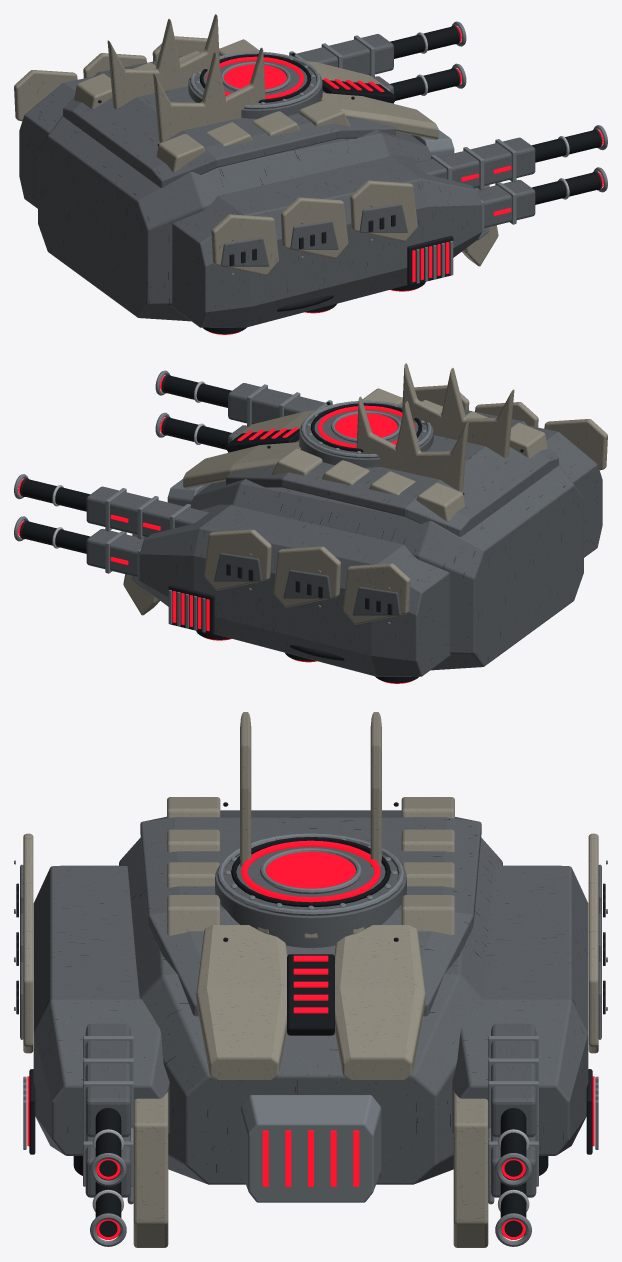
File: boss.glb
3 renders of one model, top to bottom at view 1: azimuth 30°, elevation 25°; view 2: azimuth 150°, elevation 25°; view 3: azimuth 270°, elevation 25°, orthographic. The views are drawn at different scales.
Visible parts, largest first — view 1: APEX_Dreadnought_V2_CONCEPT2_armor.001, APEX_Dreadnought_V2_CONCEPT2_ceramic.001, APEX_Dreadnought_V2_CONCEPT2_dark.001, APEX_Dreadnought_V2_CONCEPT2_steel.001, APEX_Dreadnought_V2_CONCEPT2_red.001, APEX_Dreadnought_V2_CONCEPT2_rubber.001; view 2: APEX_Dreadnought_V2_CONCEPT2_armor.001, APEX_Dreadnought_V2_CONCEPT2_ceramic.001, APEX_Dreadnought_V2_CONCEPT2_dark.001, APEX_Dreadnought_V2_CONCEPT2_steel.001, APEX_Dreadnought_V2_CONCEPT2_red.001, APEX_Dreadnought_V2_CONCEPT2_rubber.001; view 3: APEX_Dreadnought_V2_CONCEPT2_armor.001, APEX_Dreadnought_V2_CONCEPT2_ceramic.001, APEX_Dreadnought_V2_CONCEPT2_steel.001, APEX_Dreadnought_V2_CONCEPT2_red.001, APEX_Dreadnought_V2_CONCEPT2_dark.001, APEX_Dreadnought_V2_CONCEPT2_rubber.001, APEX_Dreadnought_V2_CONCEPT2_edge.001.
Boxes of the visible parts, <box> form: APEX_Dreadnought_V2_CONCEPT2_armor.001: <box>19,34,535,327</box>; APEX_Dreadnought_V2_CONCEPT2_ceramic.001: <box>14,14,498,275</box>; APEX_Dreadnought_V2_CONCEPT2_dark.001: <box>98,26,599,334</box>; APEX_Dreadnought_V2_CONCEPT2_steel.001: <box>190,21,607,283</box>; APEX_Dreadnought_V2_CONCEPT2_red.001: <box>206,26,603,334</box>; APEX_Dreadnought_V2_CONCEPT2_rubber.001: <box>229,25,601,311</box>; APEX_Dreadnought_V2_CONCEPT2_armor.001: <box>86,383,602,676</box>; APEX_Dreadnought_V2_CONCEPT2_ceramic.001: <box>123,363,607,624</box>; APEX_Dreadnought_V2_CONCEPT2_dark.001: <box>22,375,523,683</box>; APEX_Dreadnought_V2_CONCEPT2_steel.001: <box>14,370,431,632</box>; APEX_Dreadnought_V2_CONCEPT2_red.001: <box>18,375,415,683</box>; APEX_Dreadnought_V2_CONCEPT2_rubber.001: <box>20,374,392,660</box>; APEX_Dreadnought_V2_CONCEPT2_armor.001: <box>20,810,601,1197</box>; APEX_Dreadnought_V2_CONCEPT2_ceramic.001: <box>23,712,598,1247</box>; APEX_Dreadnought_V2_CONCEPT2_steel.001: <box>14,833,607,1246</box>; APEX_Dreadnought_V2_CONCEPT2_red.001: <box>27,840,594,1239</box>; APEX_Dreadnought_V2_CONCEPT2_dark.001: <box>73,802,548,1217</box>; APEX_Dreadnought_V2_CONCEPT2_rubber.001: <box>16,883,605,1238</box>; APEX_Dreadnought_V2_CONCEPT2_edge.001: <box>92,1129,529,1211</box>.
Bounding box in the file's own units: 2.72 × 1.43 × 2.23.
7 materials, 3 textured.
